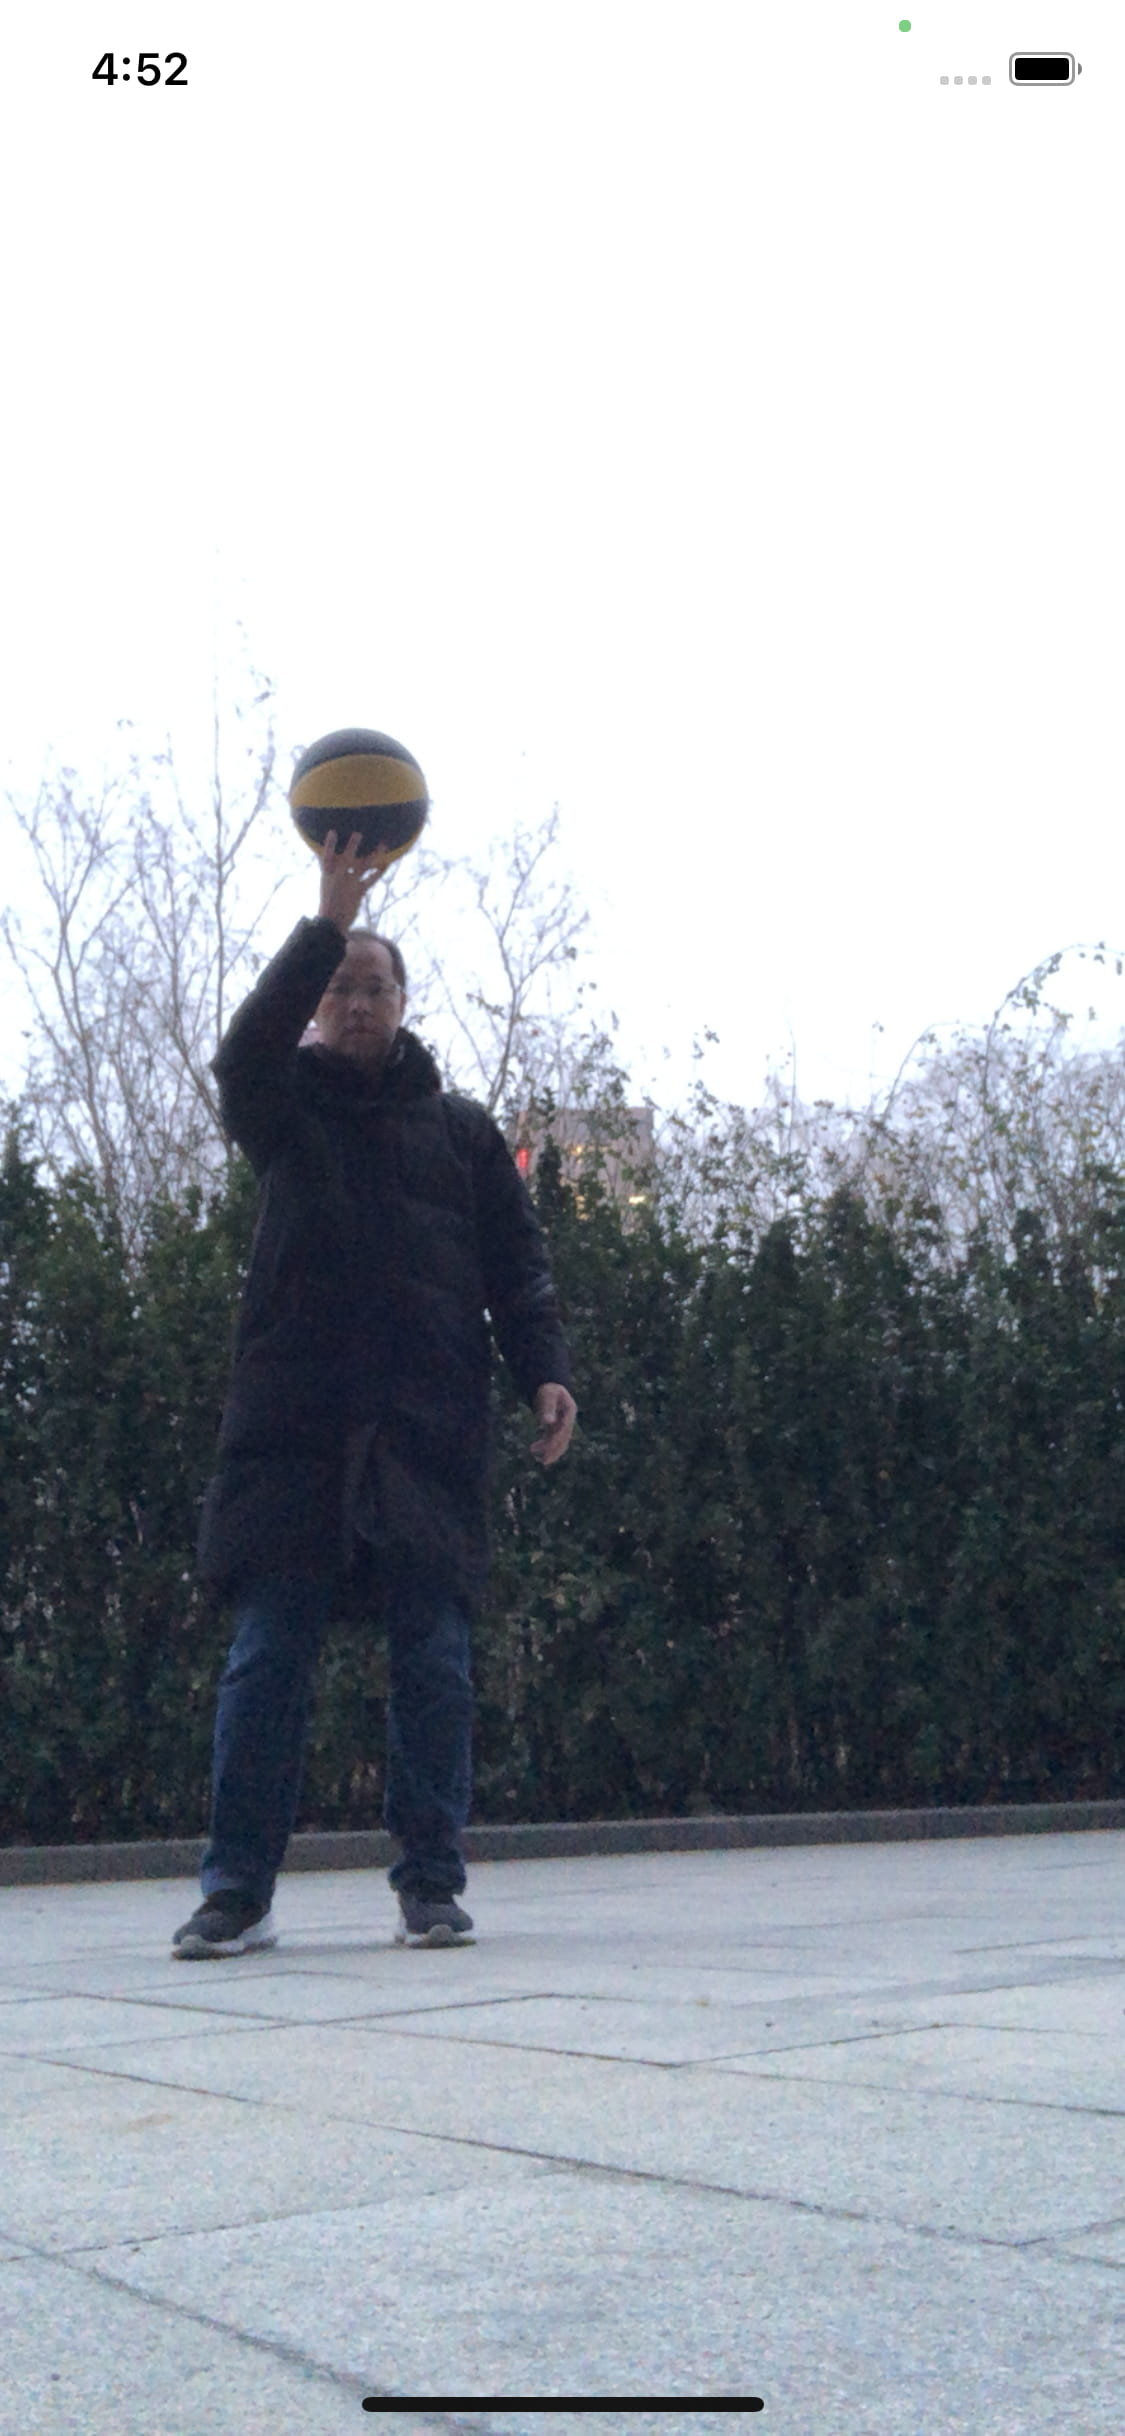ball: (291, 729, 434, 870)
